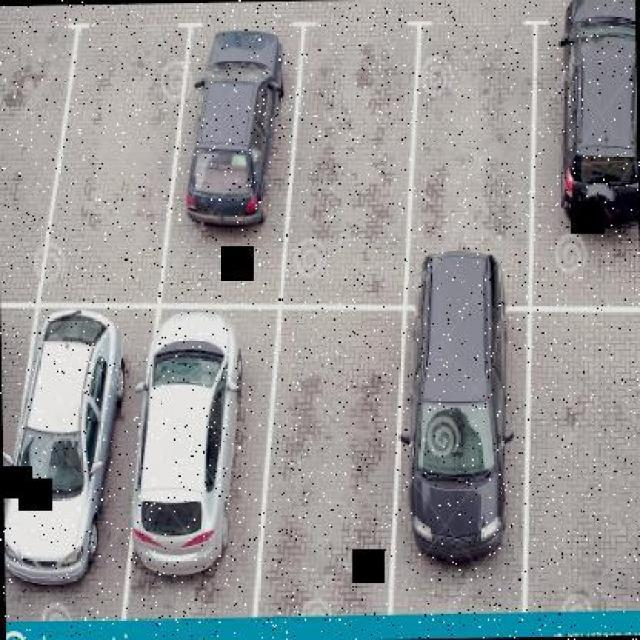car: (421, 254, 517, 574), (15, 309, 114, 588), (148, 316, 244, 586), (560, 0, 638, 231), (198, 26, 284, 226)
free: (282, 320, 393, 605), (538, 318, 640, 602), (76, 32, 182, 286), (302, 29, 402, 286), (426, 28, 520, 247), (0, 26, 46, 277)
